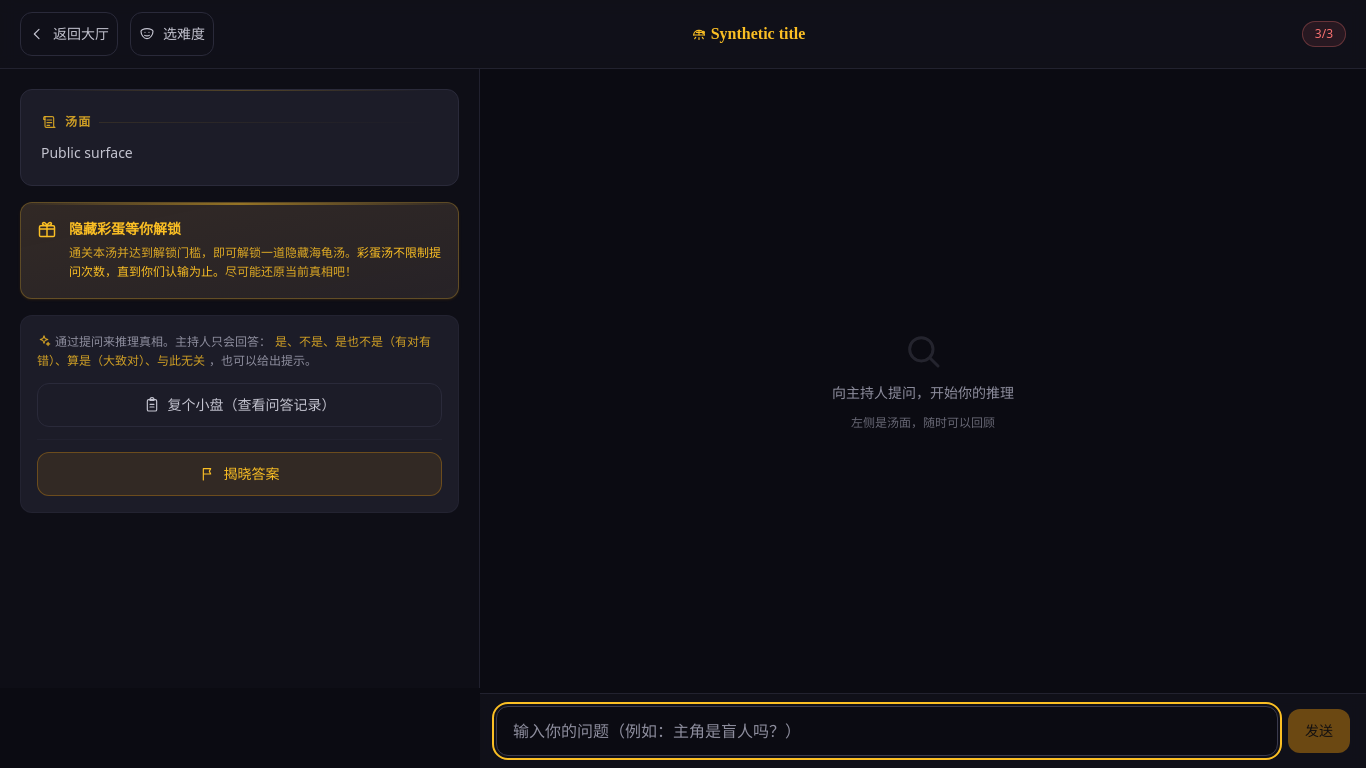
Test: real game result view separates coverage, narrative, null reconstruction and unlock
Expected: the text "Public surface" is shown, x1=41 y1=143 x2=133 y2=162
Click the button "揭晓答案" at (240, 474), box x1=37 y1=452 x2=442 y2=496
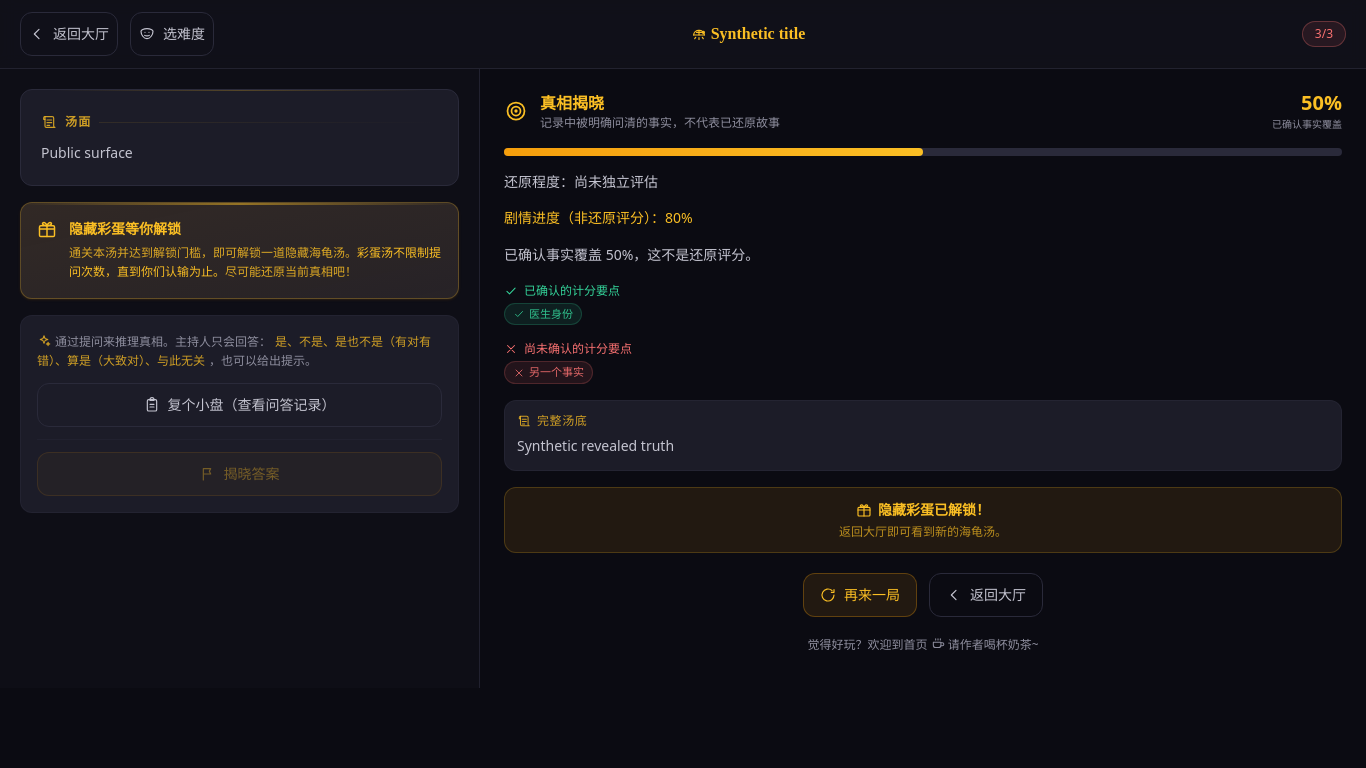
Now the text "Synthetic revealed truth" is shown, box x1=517 y1=436 x2=674 y2=455
Now the text "已确认事实覆盖" is shown, box x1=1272 y1=117 x2=1342 y2=132
Now the text "还原程度：尚未独立评估" is shown, box x1=504 y1=172 x2=658 y2=191
